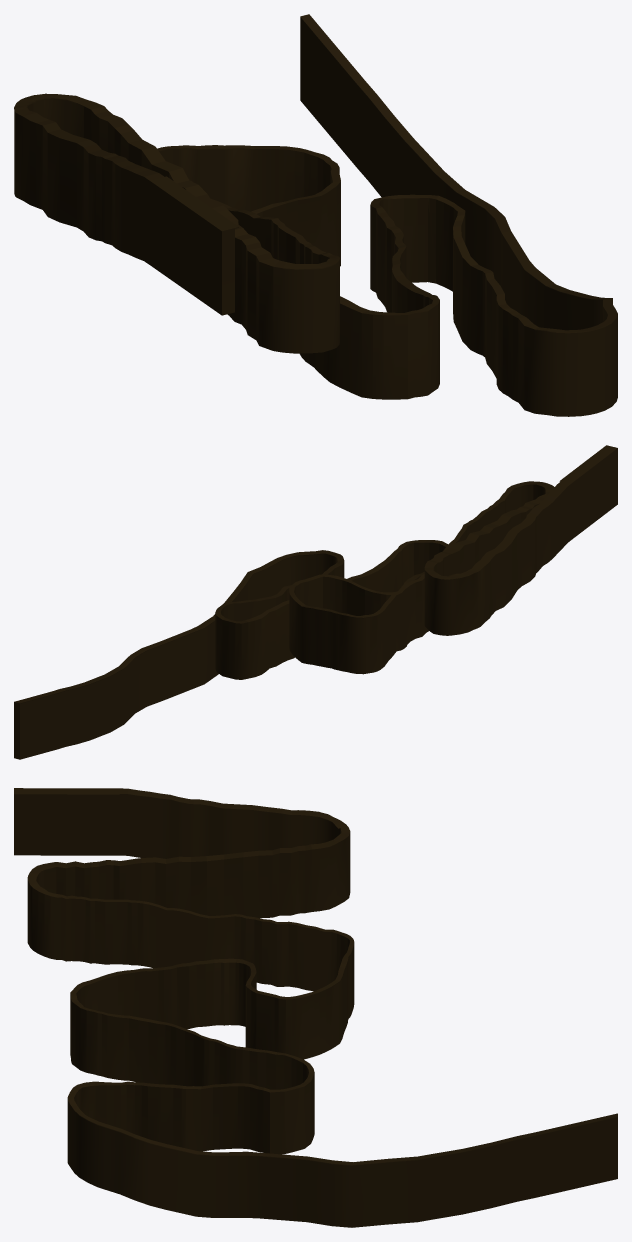
File: carretera.fbx
3 renders of one model, top to bottom at view 1: azimuth 30°, elevation 25°; view 2: azimuth 150°, elevation 25°; view 3: azimuth 270°, elevation 25°, orthographic. The views are drawn at different scales.
Parts seen in each view (by area): view 1: Carretera; view 2: Carretera; view 3: Carretera.
Boxes of the visible parts, box(x1,y1,x2,y2) form: Carretera: box(14, 14, 617, 416); Carretera: box(14, 445, 617, 759); Carretera: box(14, 788, 617, 1227).
Size of the model in its own units: 3934 by 2625 by 5522.
